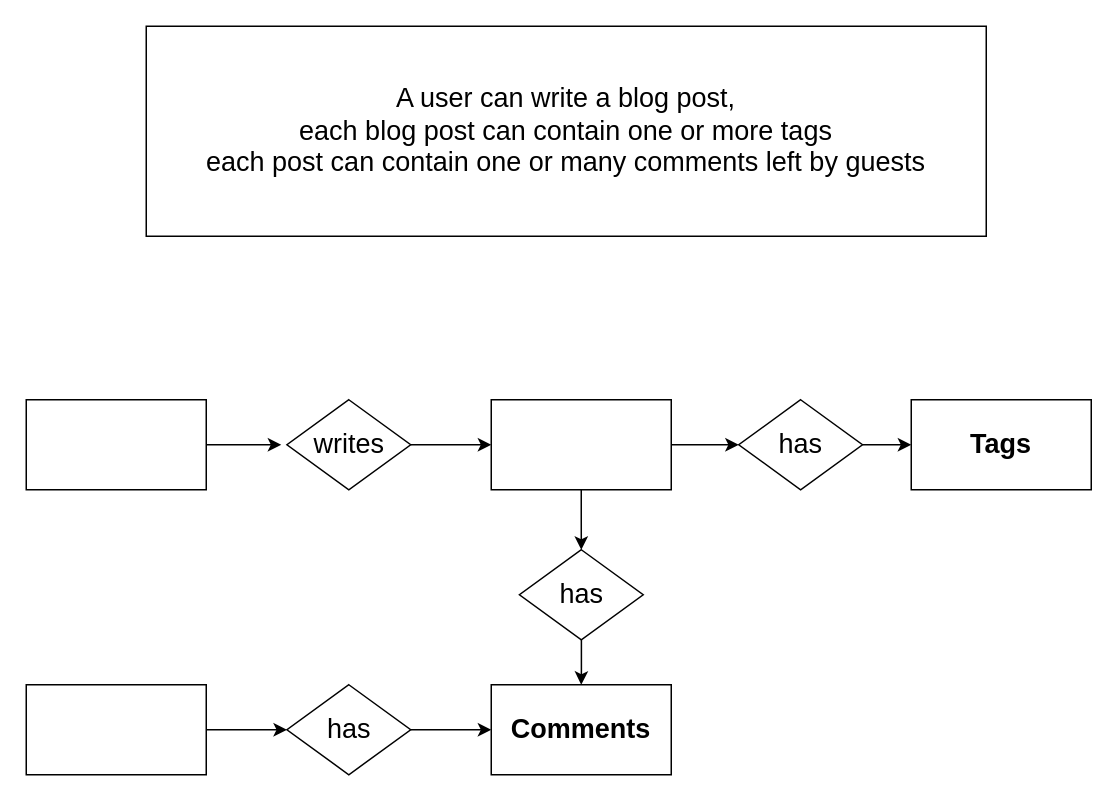
This 1118x801 diagram has some shape labels left out. The shapes that lost their labels are listed below. From the top down, each one's centre as x and y in pixels, then its label:
the point at 115,444: User
the point at 580,444: Blog
the point at 115,729: Guests
